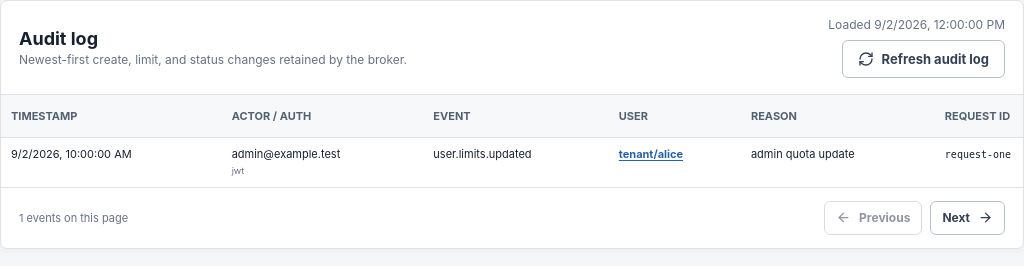
Scenario: global audit › refreshes explicitly from the first page and records the last successful client load
Check: the text "admin quota update" is shown, box [741,137,935,187]
Click the button "Refresh audit log".
click(923, 59)  # box [842,40,1005,78]
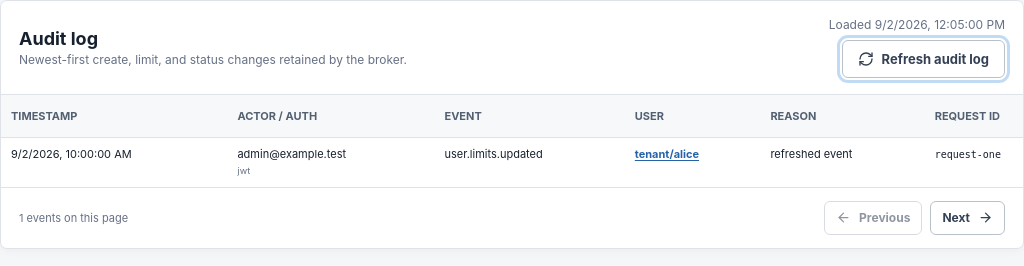
Check: the button "Previous" is disabled, box [824,201,922,235]
Check: the text "refreshed event" is shown, box [760,137,925,187]
Check: the text "admin quota update" is gone
